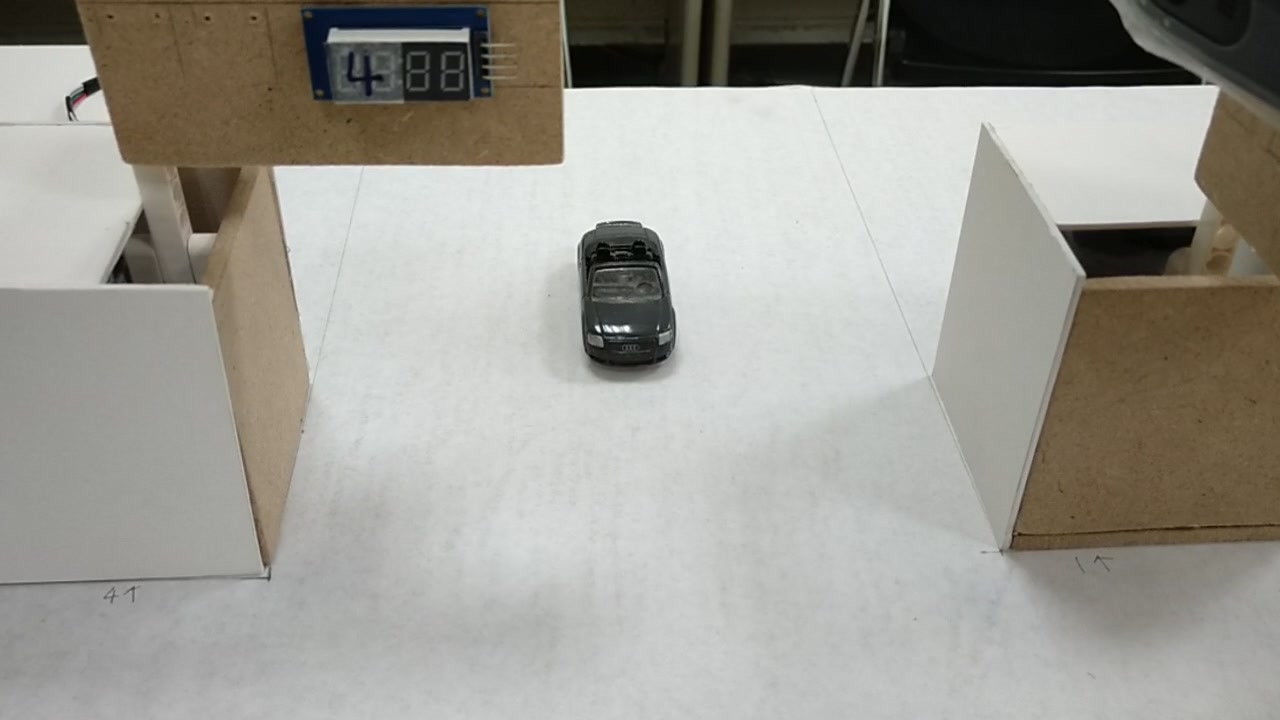car: (571, 225, 675, 370)
